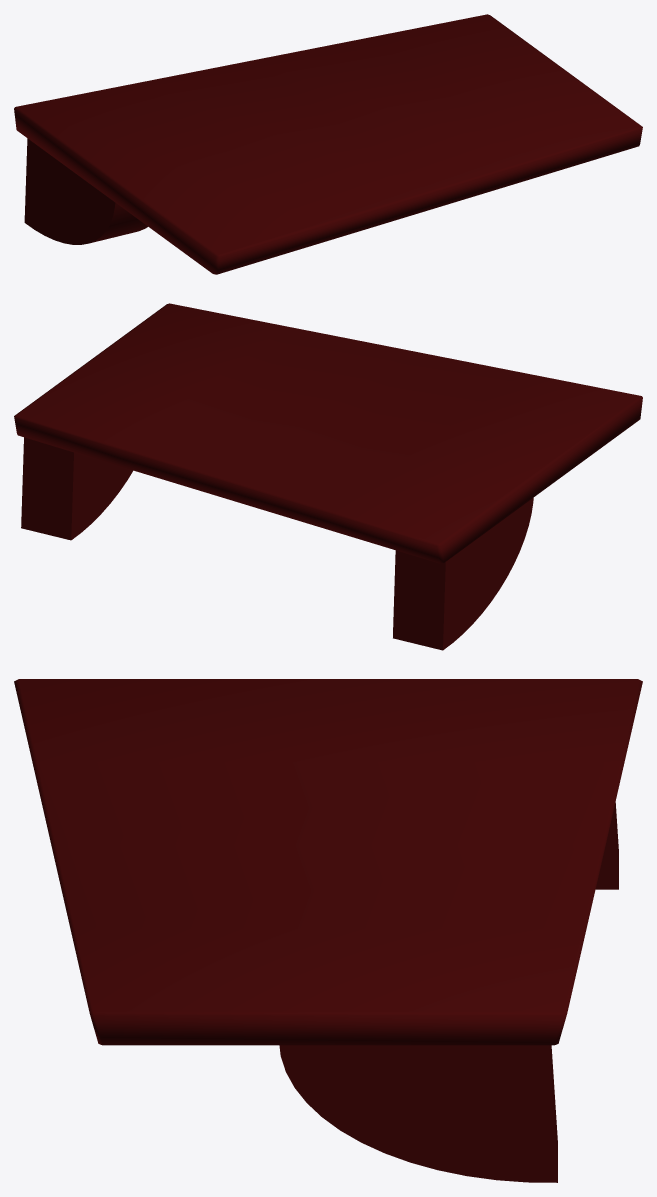
File: repose_livre.FBX
The picture shows the model from 3 angles, top to bottom: view 1: azimuth 30°, elevation 25°; view 2: azimuth 150°, elevation 25°; view 3: azimuth 270°, elevation 25°; orthographic projection. The views are drawn at different scales.
Visible parts, largest first — view 1: repose_livre; view 2: repose_livre; view 3: repose_livre.
Part boxes in pixels (x1=…): repose_livre: x1=14, y1=14, x2=642, y2=274; repose_livre: x1=14, y1=303, x2=642, y2=650; repose_livre: x1=14, y1=679, x2=642, y2=1182.
Bounding box in the file's own units: 0.5232 × 0.1252 × 0.4113.
